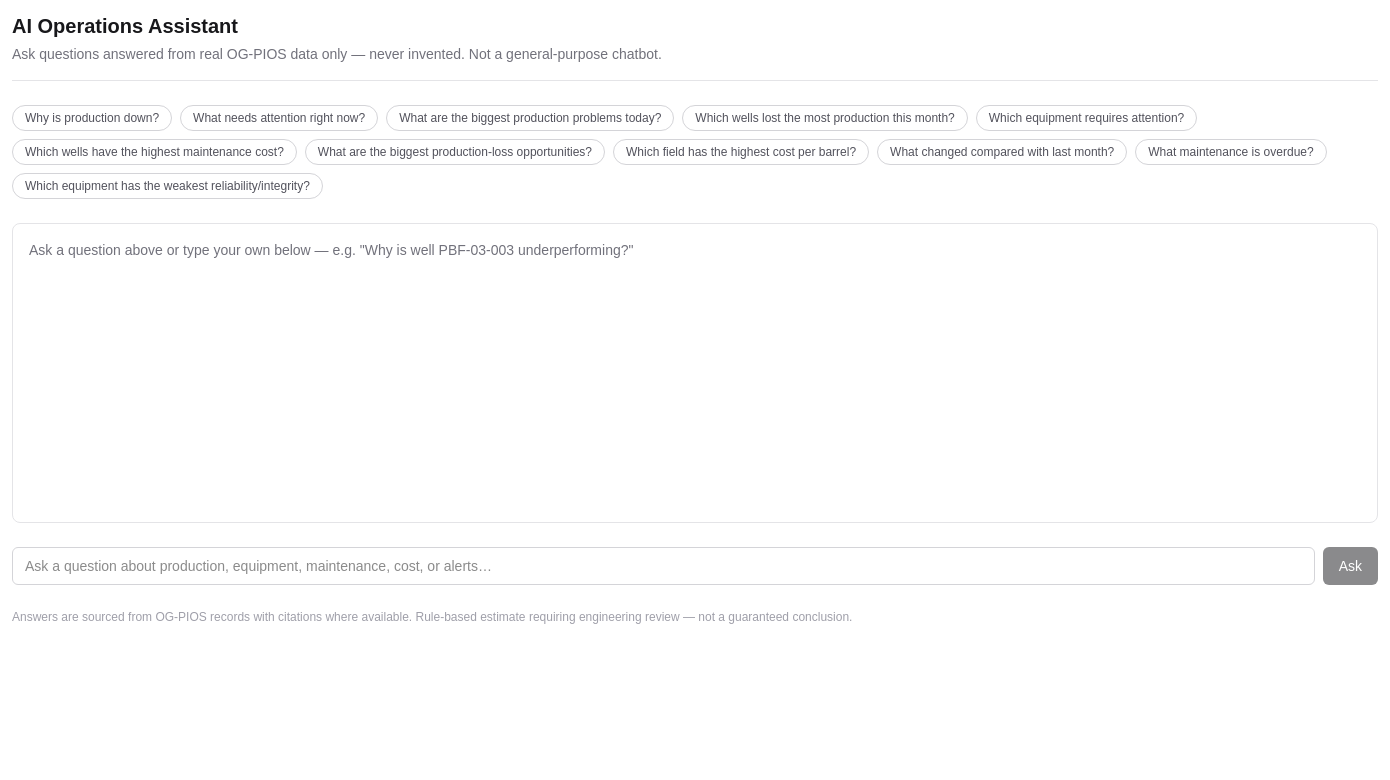
Test: AiOperationsAssistantPage › sends a question and renders the deterministic answer with sources
Click the button "Which equipment requires attention?": [1087, 118] box top-left (976, 105), bottom-right (1197, 131)
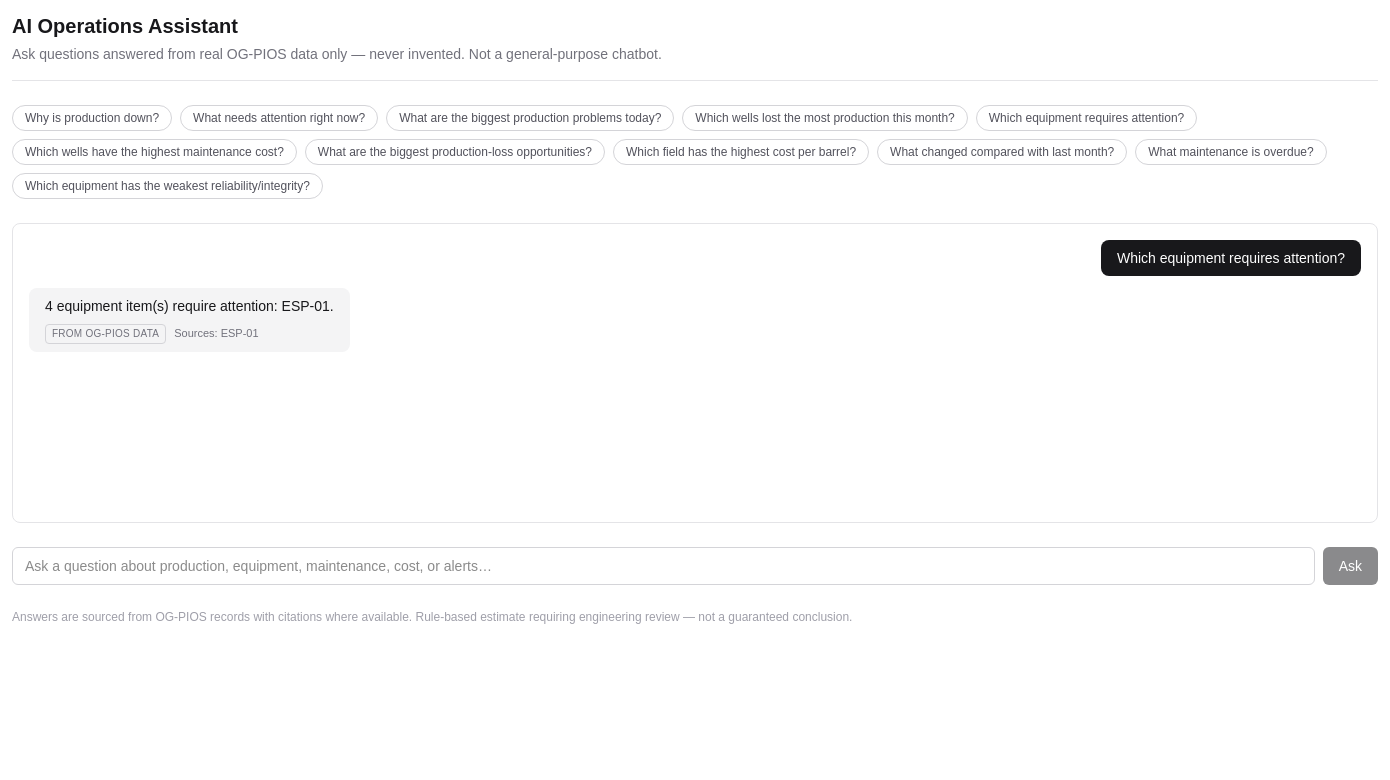
Expected: the text "4 equipment item(s) require attention: ESP-01." is shown, top-left (45, 296), bottom-right (334, 316)
Expected: the text "From OG-PIOS data" is shown, top-left (45, 324), bottom-right (166, 344)
Expected: the text "Sources: ESP-01" is shown, top-left (174, 326), bottom-right (259, 342)
